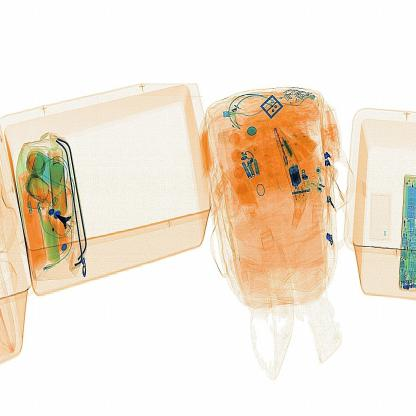gun: (54, 210, 86, 237)
